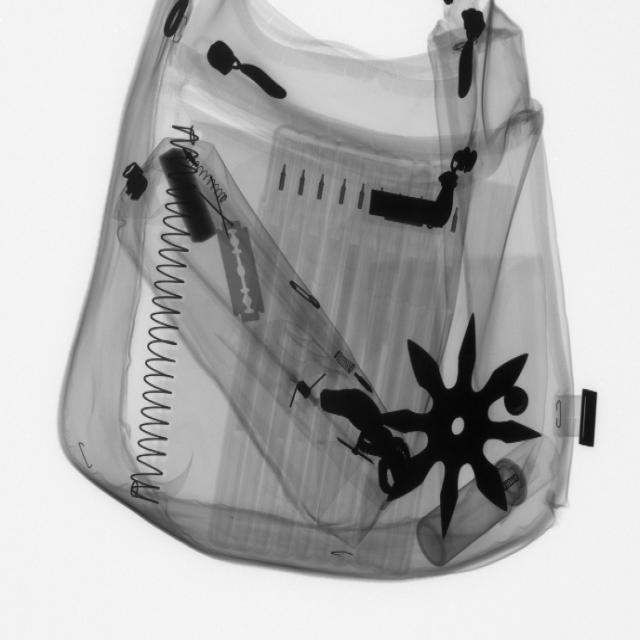BLADE: (214, 217, 271, 332)
SHURIKEN: (365, 316, 542, 538)
